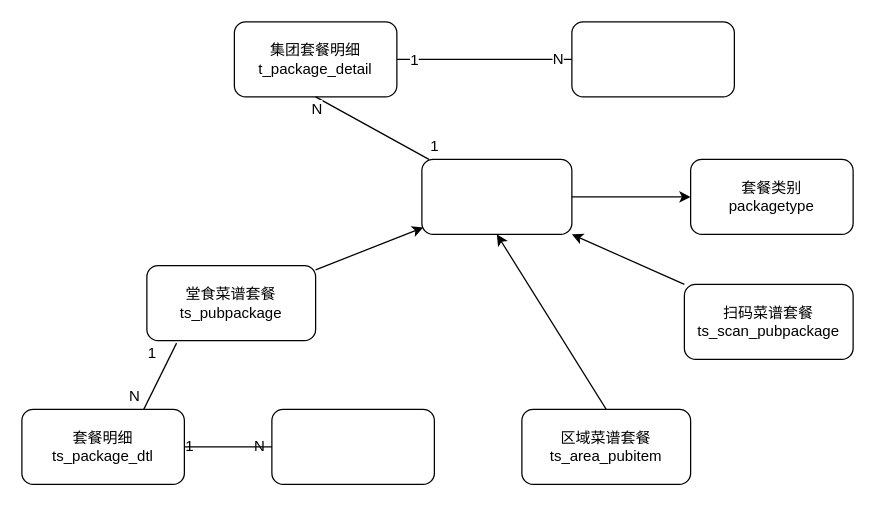
The diagram is 875 pixels wide and 506 high, and some of its shapes have lost their labels. Each missing label, with the box of its shape:
套餐明细可替换菜 ts_item_pkg: (271, 408, 434, 484)
集团套餐 t_packge: (421, 158, 572, 234)
集团套餐明细可替换菜 t_package_itempkg: (571, 21, 734, 97)
